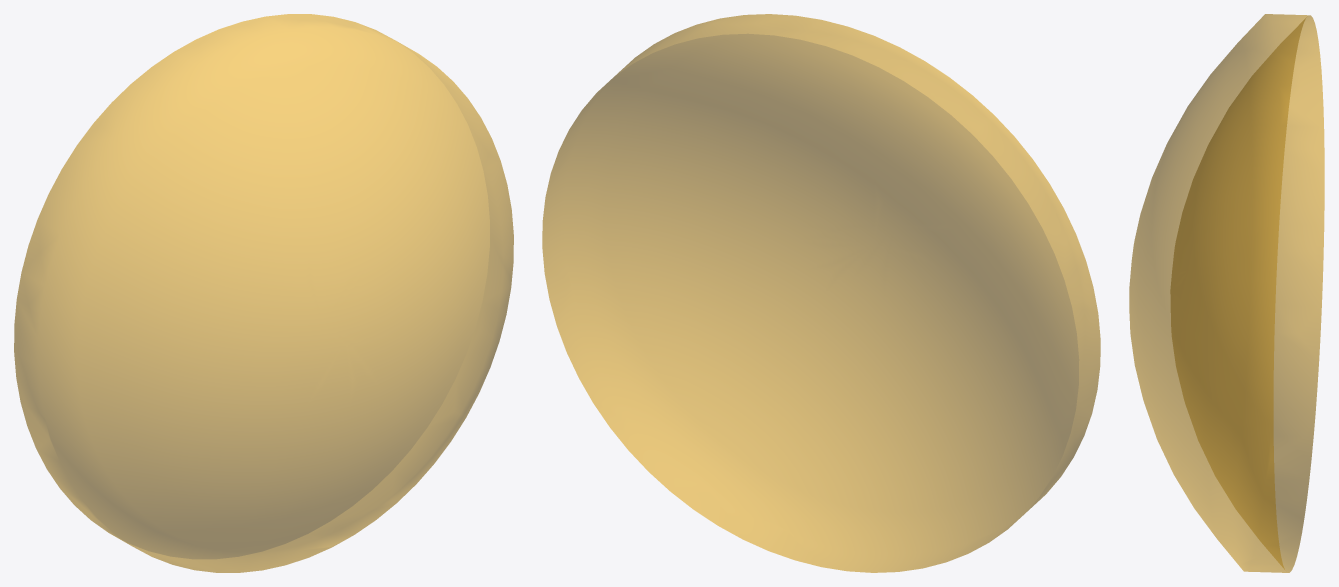
File: nervoso-cornea-l.glb
3 renders of one model, left to right at view 1: azimuth 30°, elevation 25°; view 2: azimuth 150°, elevation 25°; view 3: azimuth 270°, elevation 25°, orthographic. The views are drawn at different scales.
Parts seen in each view (by area): view 1: Cornea.l; view 2: Cornea.l; view 3: Cornea.l.
Part boxes in pixels (x1,y1,x2,y2): Cornea.l: [14, 14, 513, 572]; Cornea.l: [542, 14, 1100, 572]; Cornea.l: [1129, 14, 1324, 572].
Size of the model in its own units: 0.0142 by 0.0142 by 0.00496.
